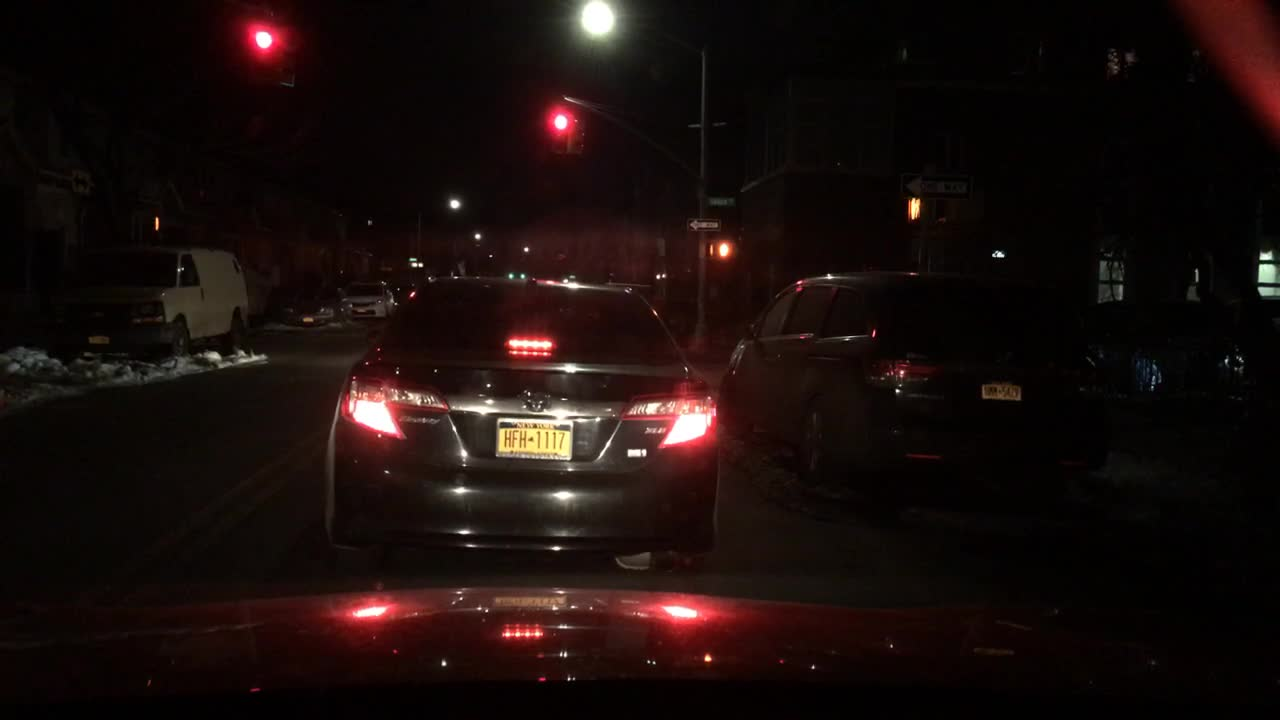car: (320, 269, 727, 581), (721, 264, 1131, 532), (77, 243, 254, 355), (344, 279, 398, 321), (281, 282, 335, 324)
traffic light: (551, 108, 566, 147), (249, 27, 273, 51), (711, 238, 734, 260), (572, 117, 585, 154)
traffic sign: (689, 216, 716, 232)
